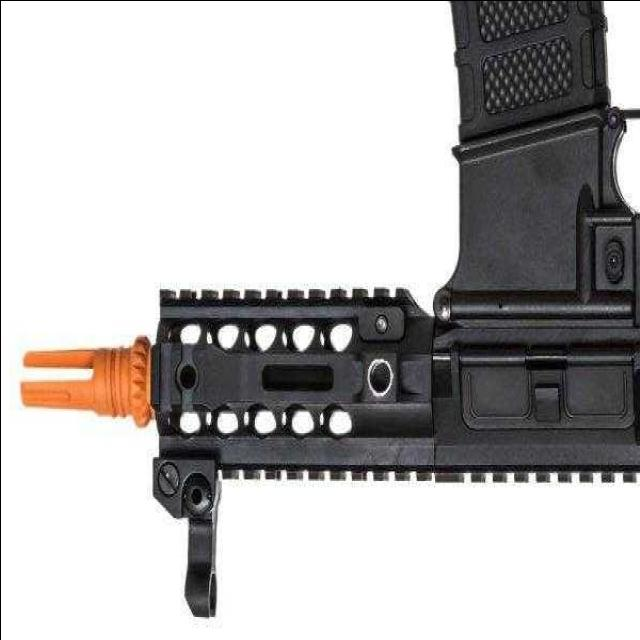heavyweapon: (9, 1, 640, 568)
